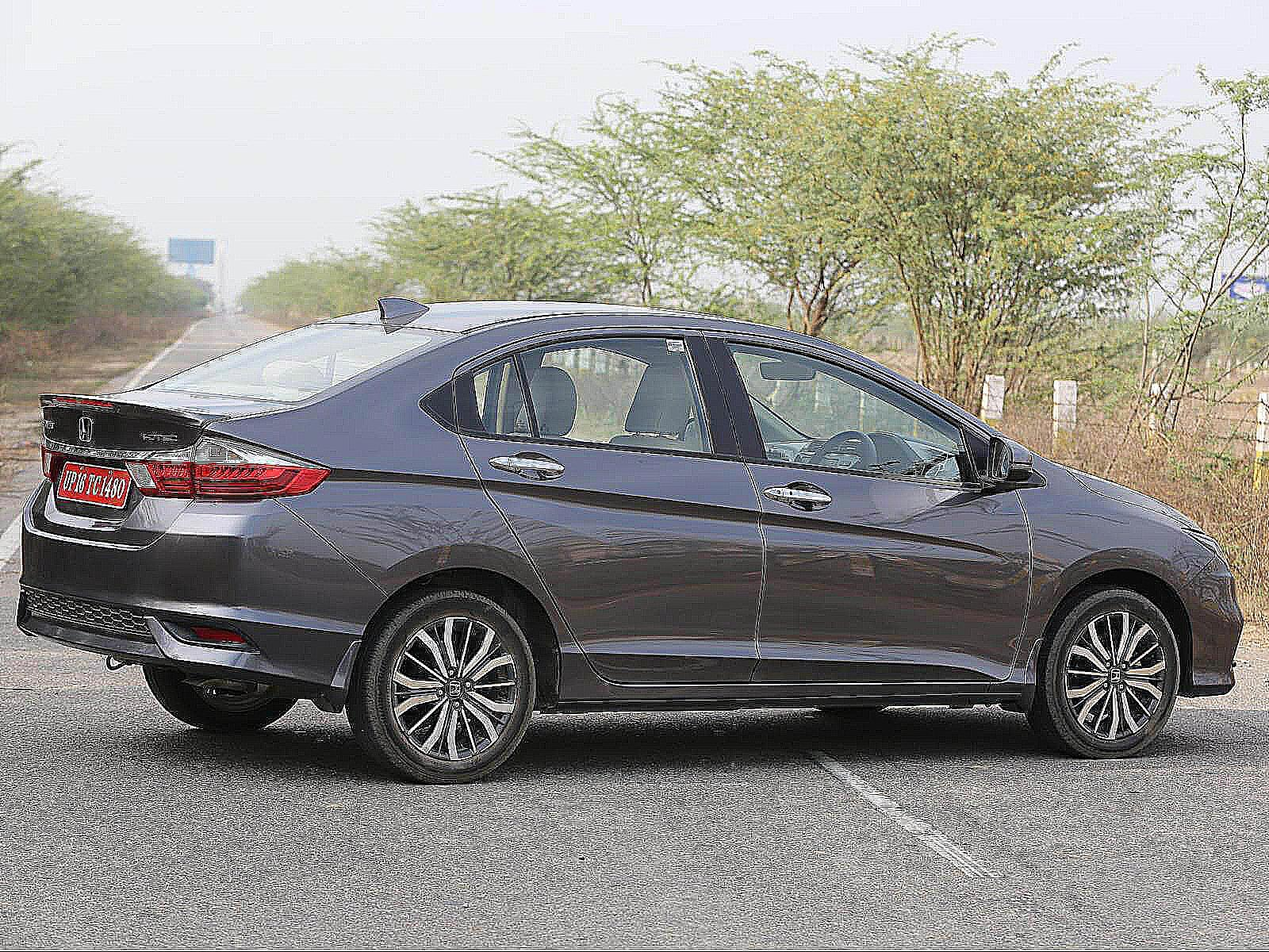Car boot: (21, 365, 293, 549)
Driver-s door - -F-R-: (690, 275, 1042, 734)
Fender - -F-R-: (1011, 446, 1210, 718)
Fender - -R-R-: (230, 330, 610, 758)
Front bumper: (1168, 548, 1255, 696)
Passenger-s door - -R-R-: (414, 268, 788, 749)
Rear bumper: (11, 487, 386, 717)
Rear light - -R-: (118, 432, 330, 507)
Side bumper - -R-: (525, 655, 1046, 759)
Side mirror - -R-: (973, 424, 1050, 500)
